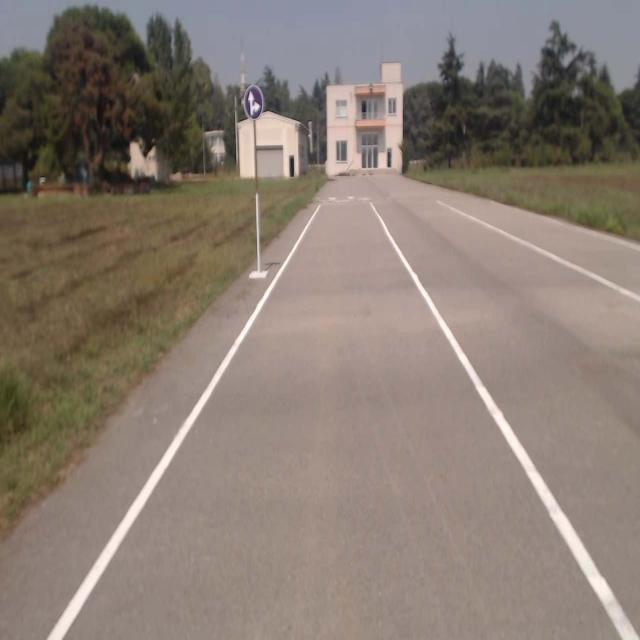ilerisag: (244, 85, 263, 118)
